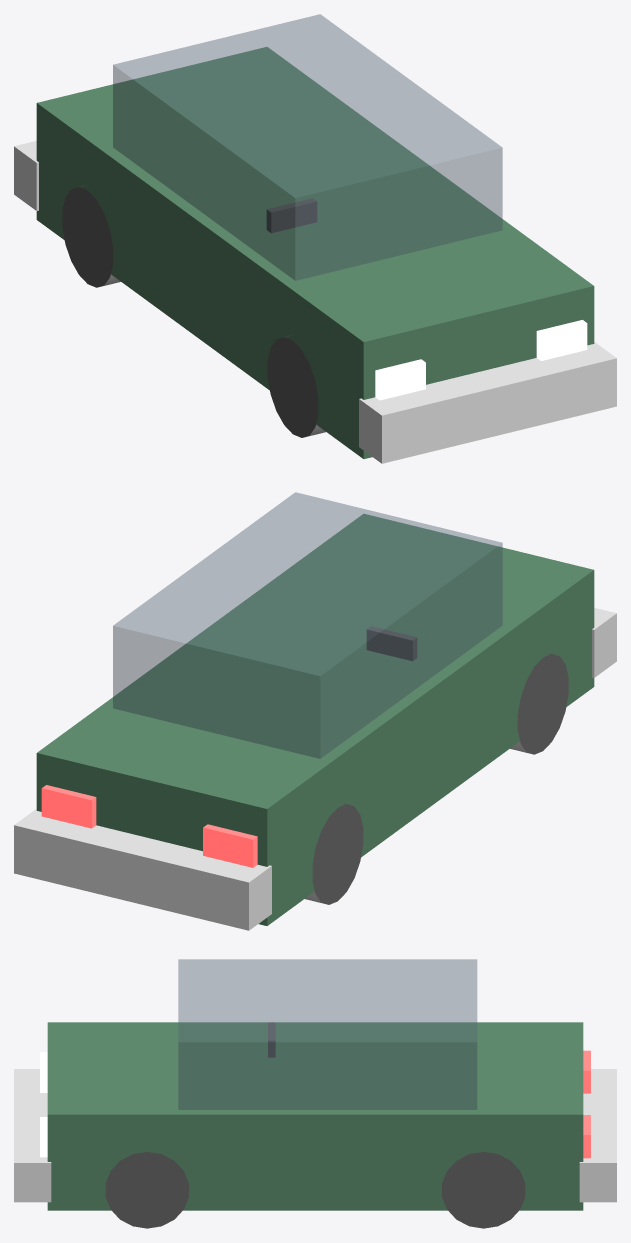
The model's file is fiat132.glb.
The picture shows the model from 3 angles, top to bottom: view 1: azimuth 30°, elevation 25°; view 2: azimuth 150°, elevation 25°; view 3: azimuth 270°, elevation 25°; orthographic projection. The views are drawn at different scales.
Visible parts, largest first — view 1: Body_Main, Cabin_Glass, Front_Bumper, Wheel_FL, Wheel_RL, Headlight_R, Headlight_L, Rear_Bumper, Interior_SteeringWheel; view 2: Body_Main, Cabin_Glass, Rear_Bumper, Wheel_RL, Wheel_FL, Taillight_R, Taillight_L, Front_Bumper, Interior_SteeringWheel; view 3: Body_Main, Cabin_Glass, Wheel_FR, Wheel_RR, Front_Bumper, Rear_Bumper.
Part boxes in pixels (bbox=[...]): Body_Main: bbox=[36, 47, 594, 458]; Cabin_Glass: bbox=[113, 14, 502, 280]; Front_Bumper: bbox=[359, 342, 616, 463]; Wheel_FL: bbox=[267, 335, 325, 437]; Wheel_RL: bbox=[62, 184, 120, 287]; Headlight_R: bbox=[536, 320, 587, 360]; Headlight_L: bbox=[375, 359, 425, 400]; Rear_Bumper: bbox=[14, 141, 38, 210]; Interior_SteeringWheel: bbox=[266, 198, 317, 233]; Body_Main: bbox=[36, 514, 594, 925]; Cabin_Glass: bbox=[113, 492, 502, 758]; Rear_Bumper: bbox=[14, 809, 271, 930]; Wheel_RL: bbox=[305, 802, 363, 904]; Wheel_FL: bbox=[510, 652, 568, 754]; Taillight_R: bbox=[41, 785, 96, 828]; Taillight_L: bbox=[203, 824, 257, 867]; Front_Bumper: bbox=[592, 608, 616, 677]; Interior_SteeringWheel: bbox=[366, 626, 417, 661]; Body_Main: bbox=[47, 1022, 583, 1210]; Cabin_Glass: bbox=[178, 959, 477, 1109]; Wheel_FR: bbox=[105, 1152, 188, 1228]; Wheel_RR: bbox=[442, 1152, 525, 1228]; Front_Bumper: bbox=[14, 1069, 51, 1202]; Rear_Bumper: bbox=[579, 1069, 616, 1202].
Bounding box in the file's own units: 1.9 × 1.58 × 4.84.
